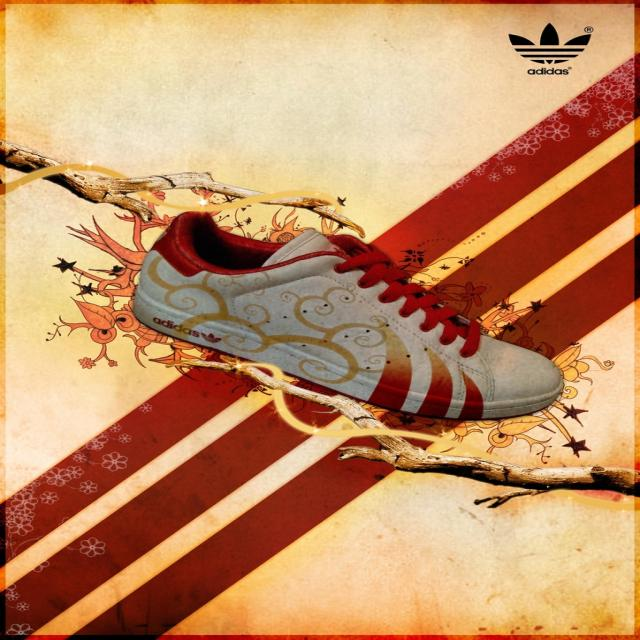adidas: (507, 23, 596, 78)
